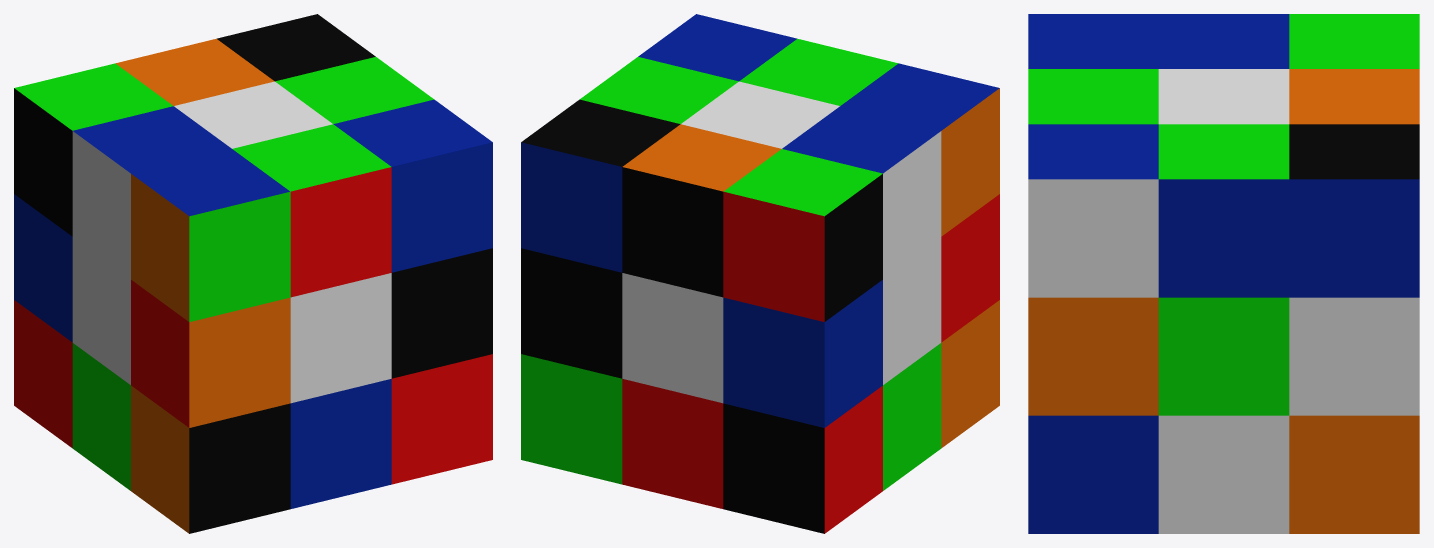
The model's file is Rubikscube.fbx.
The picture shows the model from 3 angles, left to right: view 1: azimuth 30°, elevation 25°; view 2: azimuth 150°, elevation 25°; view 3: azimuth 270°, elevation 25°; orthographic projection. The views are drawn at different scales.
Visible parts, largest first — view 1: pCube1; view 2: pCube1; view 3: pCube1.
Boxes of the visible parts, left/top/right/bottom form: pCube1: left=14, top=14, right=492, bottom=533; pCube1: left=521, top=14, right=999, bottom=533; pCube1: left=1028, top=14, right=1419, bottom=533.
Size of the model in its own units: 146 by 146 by 146.
